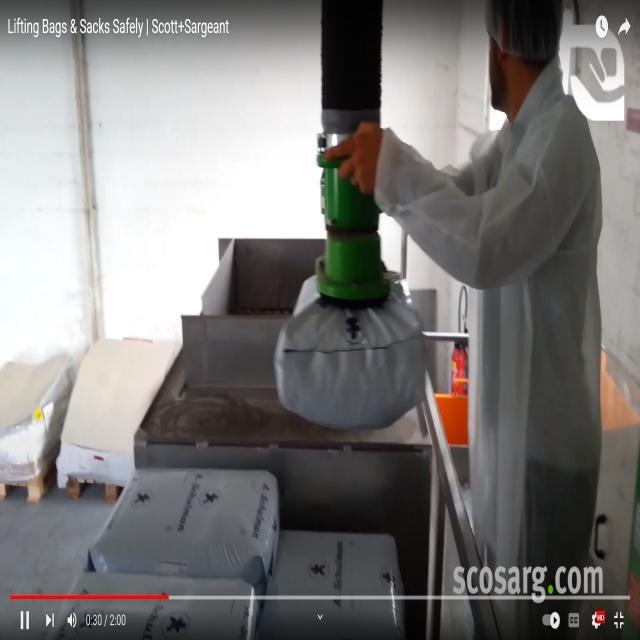gunny_bag: (87, 469, 279, 590), (274, 276, 426, 428), (258, 530, 405, 639)
